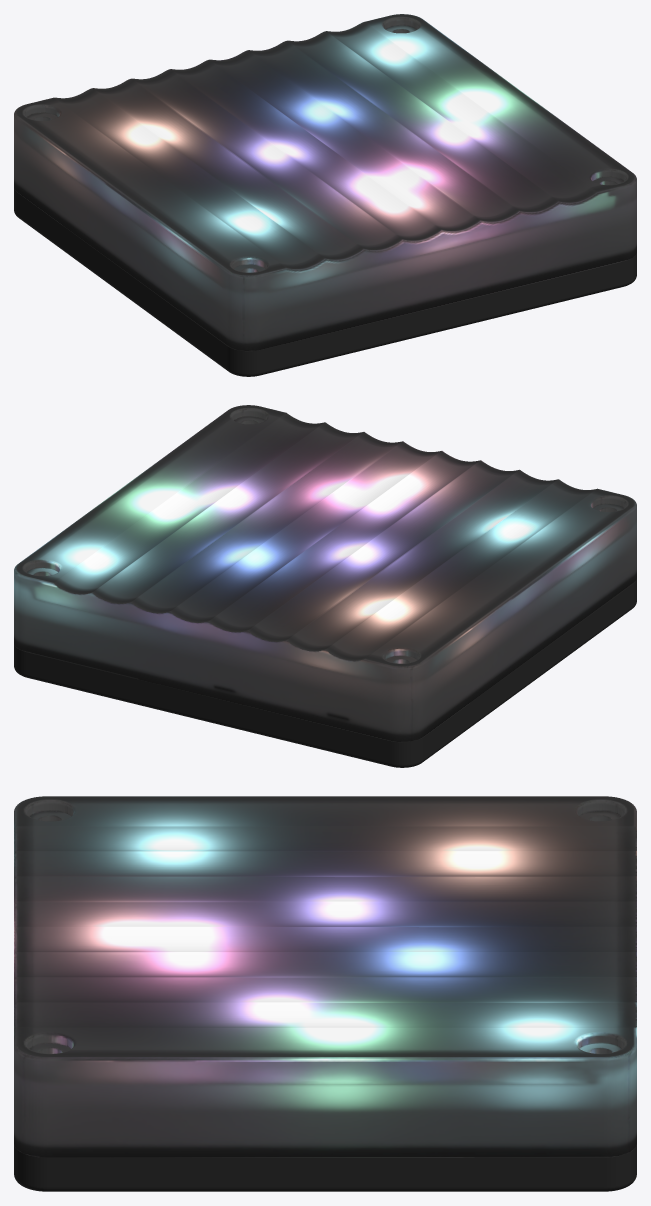
3 renders of one model, top to bottom at view 1: azimuth 30°, elevation 25°; view 2: azimuth 150°, elevation 25°; view 3: azimuth 270°, elevation 25°, orthographic. The views are drawn at different scales.
Visible parts, largest first — view 1: Diffuser, Back; view 2: Diffuser, Back; view 3: Diffuser, Back.
Part boxes in pixels (x1,y1,x2,y2): Diffuser: (14,14,636,351); Back: (14,188,636,376); Diffuser: (14,405,636,742); Back: (14,579,636,767); Diffuser: (14,796,636,1157); Back: (14,1145,636,1191).
Bounding box in the file's own units: 85.3 × 22.28 × 85.3.
2 materials, 1 textured.
